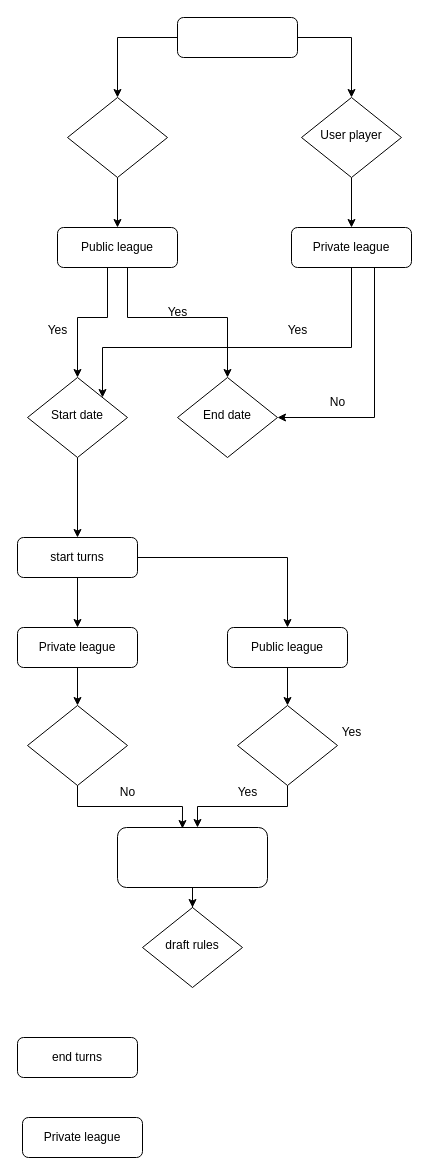
Image size: 429x1175. Some labels were removed from this diagram. Each missing label, with the centre of its shape:
Any candidate has been already selected: pixel 192 857
Async turns: pixel 287 745
Create League: pixel 237 37
sneak draft: pixel 77 745
User admin: pixel 117 137
